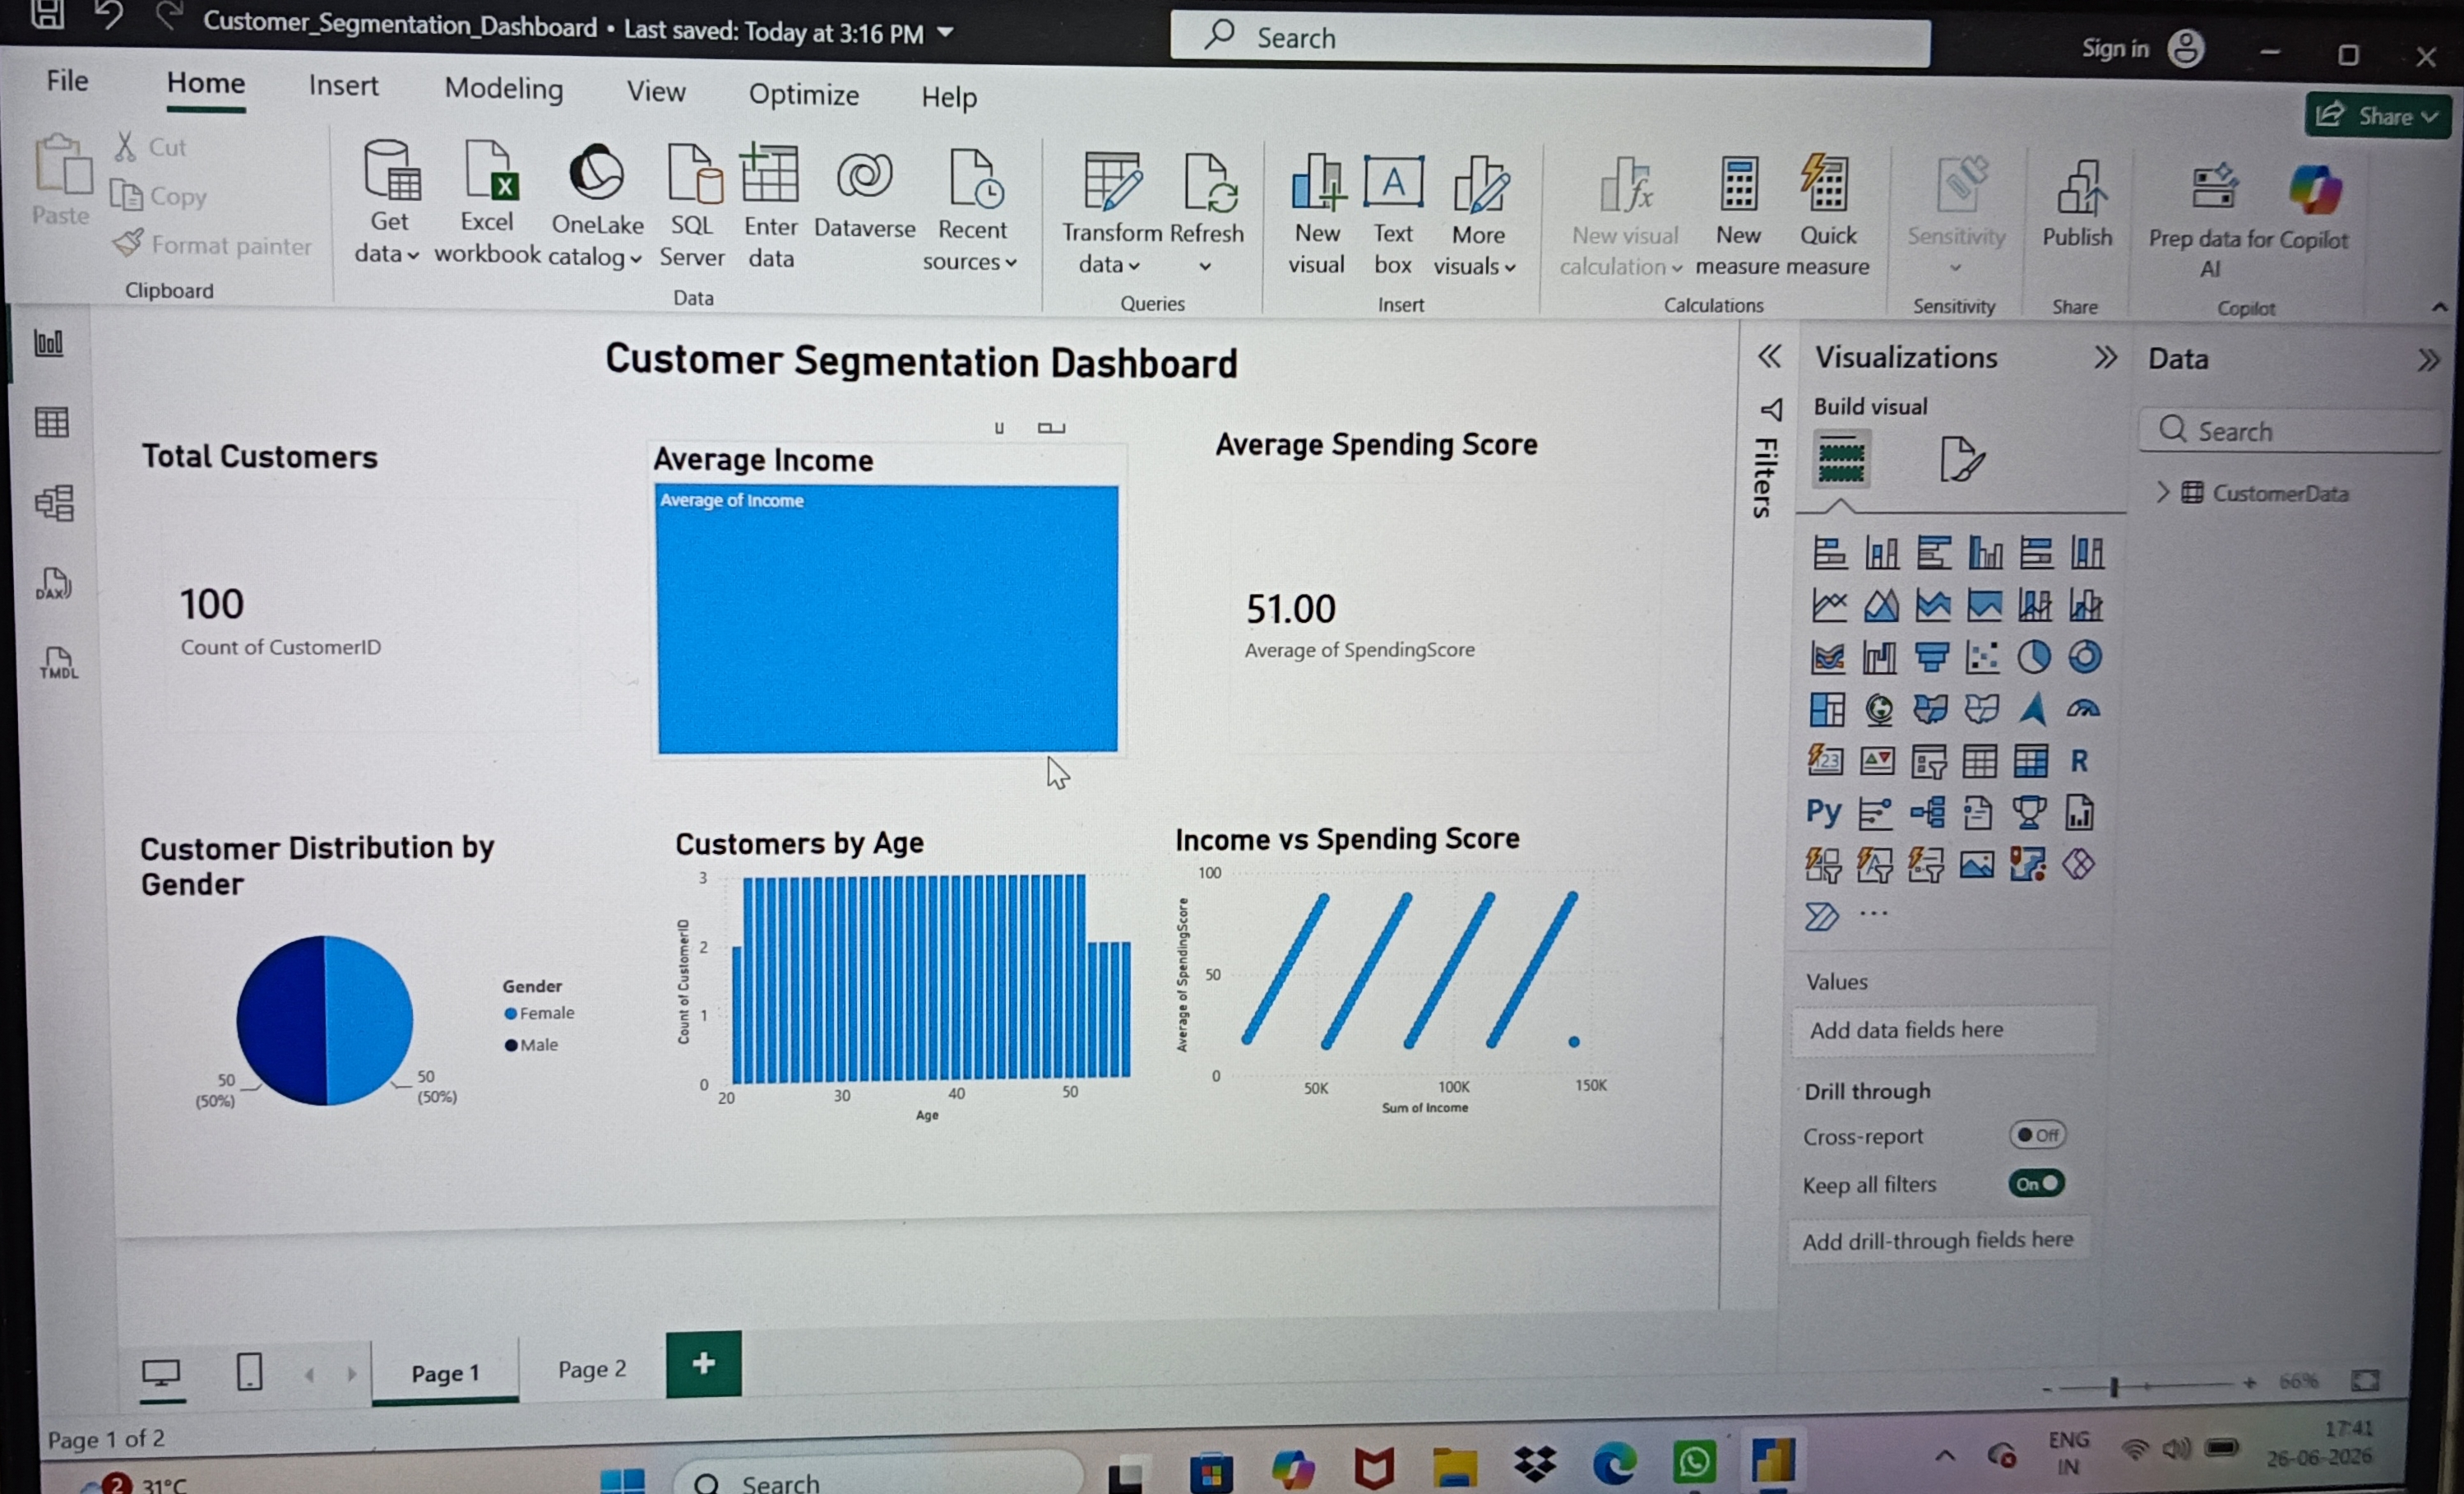

What the dashboard file says about the page in this screenshot:
{"tool":"powerbi","page":{"name":"Page 1","canvas":[1280,720],"ordinal":0},"visuals":[{"type":"cardVisual","title":"Total Customers","fields":{"Data":["CountNonNull(CustomerData.CustomerID)"]},"box":[30.2,100.2,347.7,243.8],"z":0},{"type":"treemap","title":"Average Income","fields":{"Values":["Avg(CustomerData.Income)","Avg(CustomerData.SpendingScore)"]},"box":[413.9,98.3,376.1,251.3],"z":1000},{"type":"cardVisual","title":"Average Spending Score","fields":{"Data":["Avg(CustomerData.SpendingScore)"]},"box":[856.1,85,385.5,279.7],"z":2000},{"type":"pieChart","title":"Customer Distribution by Gender","fields":{"Y":["CountNonNull(CustomerData.CustomerID)"],"Category":["CustomerData.Gender"]},"box":[20.8,400.6,347.7,245.7],"z":3000},{"type":"clusteredColumnChart","title":"Customers by Age","fields":{"Category":["CustomerData.Age"],"Y":["CountNonNull(CustomerData.CustomerID)"]},"box":[427.1,400.6,376.1,245.7],"z":4000},{"type":"scatterChart","title":"Income vs Spending Score","fields":{"X":["Sum(CustomerData.Income)"],"Y":["Avg(CustomerData.SpendingScore)"],"Category":["CustomerData.CustomerID"]},"box":[825.8,400.6,387.4,245.7],"z":5000},{"type":"textbox","title":"Customer Segmentation Dashboard","box":[378,17,523.5,66.1],"z":6000}]}

Visuals, with their boxes on the page's 1280x720 design canvas (x1, y1, x2, y2). These are canvas units, not pixel positions in the 2464x1494 screenshot, which may show the page scaled, cropped or inside an application window:
"Total Customers" cardVisual: (x1=30, y1=100, x2=378, y2=344)
"Average Income" treemap: (x1=414, y1=98, x2=790, y2=350)
"Average Spending Score" cardVisual: (x1=856, y1=85, x2=1242, y2=365)
"Customer Distribution by Gender" pieChart: (x1=21, y1=401, x2=368, y2=646)
"Customers by Age" clusteredColumnChart: (x1=427, y1=401, x2=803, y2=646)
"Income vs Spending Score" scatterChart: (x1=826, y1=401, x2=1213, y2=646)
"Customer Segmentation Dashboard" textbox: (x1=378, y1=17, x2=902, y2=83)
